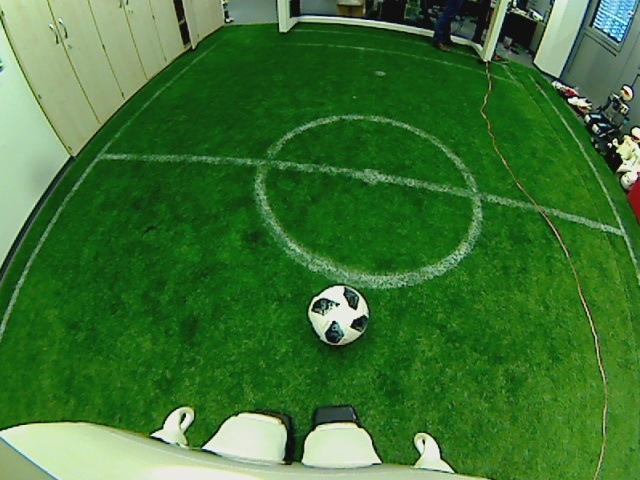ball: (306, 283, 371, 346)
